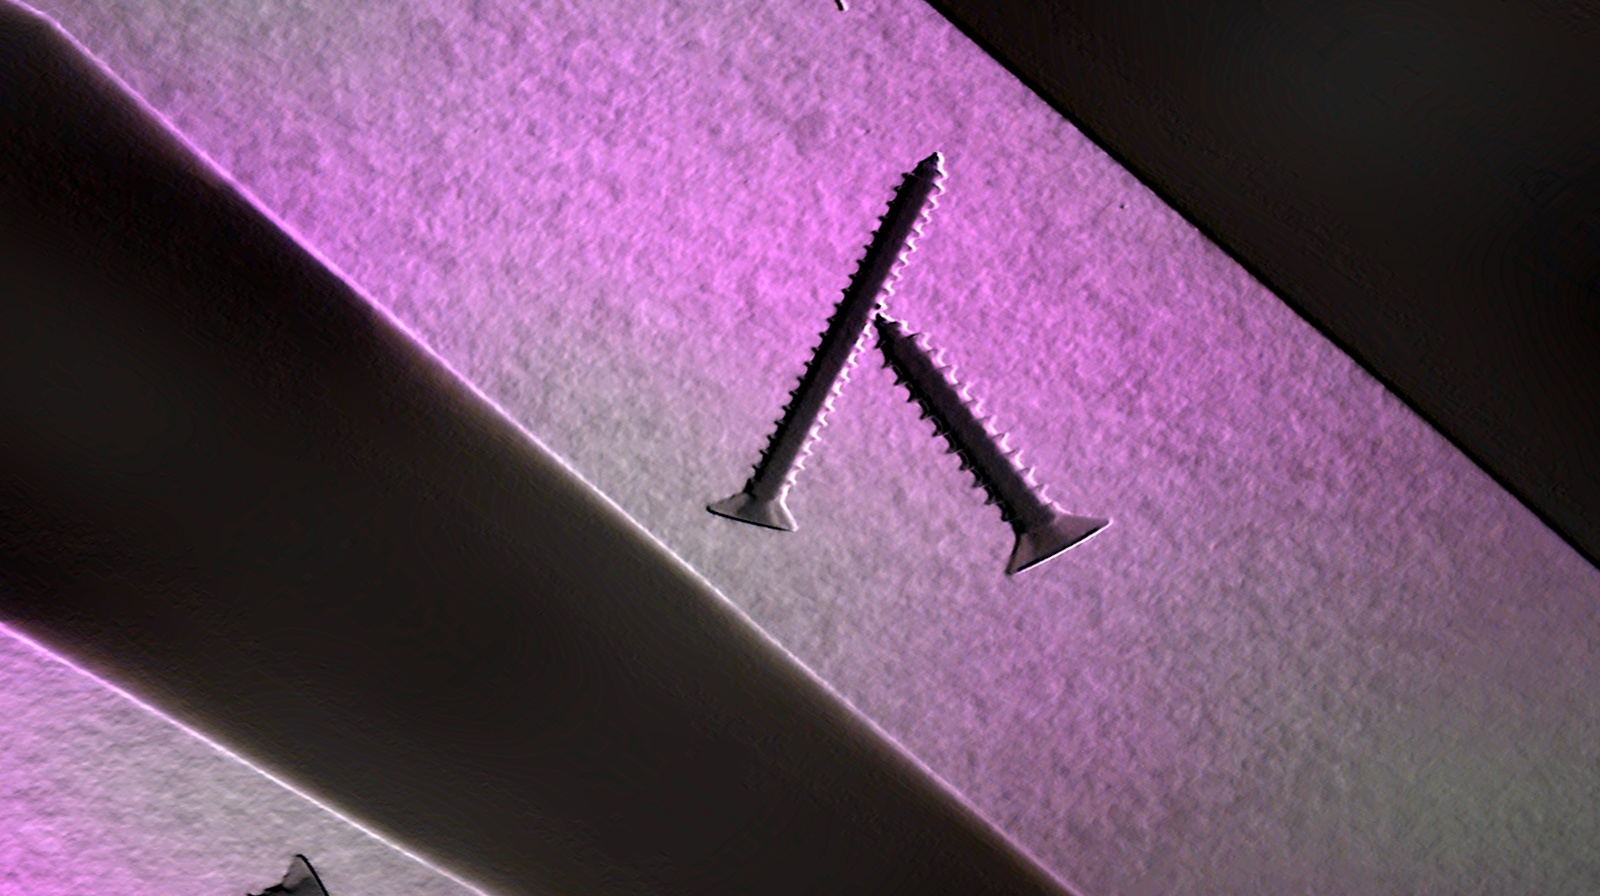S001: (765, 302, 1165, 598)
S002: (595, 143, 1115, 557)
